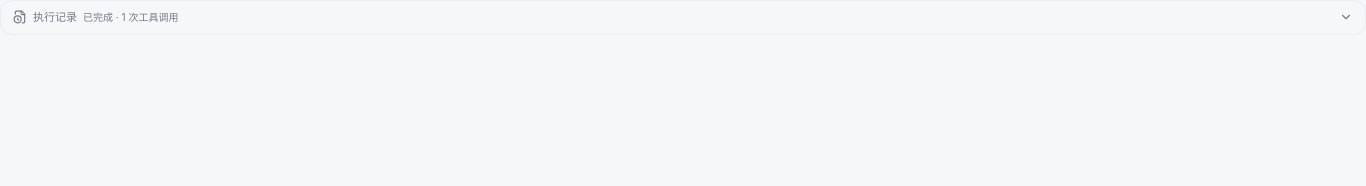
Scenario: TraceTimeline › expands the factual steps from the compact summary
Click the button "执行记录 已完成 · 1 次工具调用" at (55, 17), box [13, 9, 1353, 26]
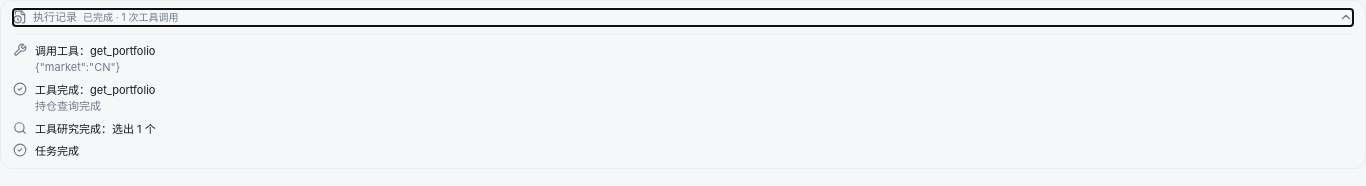
Check: the text "调用工具：get_portfolio" is shown, box [35, 42, 155, 59]
Check: the text "{\"market\":\"CN\"}" is shown, box [35, 60, 120, 74]
Check: the text "持仓查询完成" is shown, box [35, 99, 101, 113]
